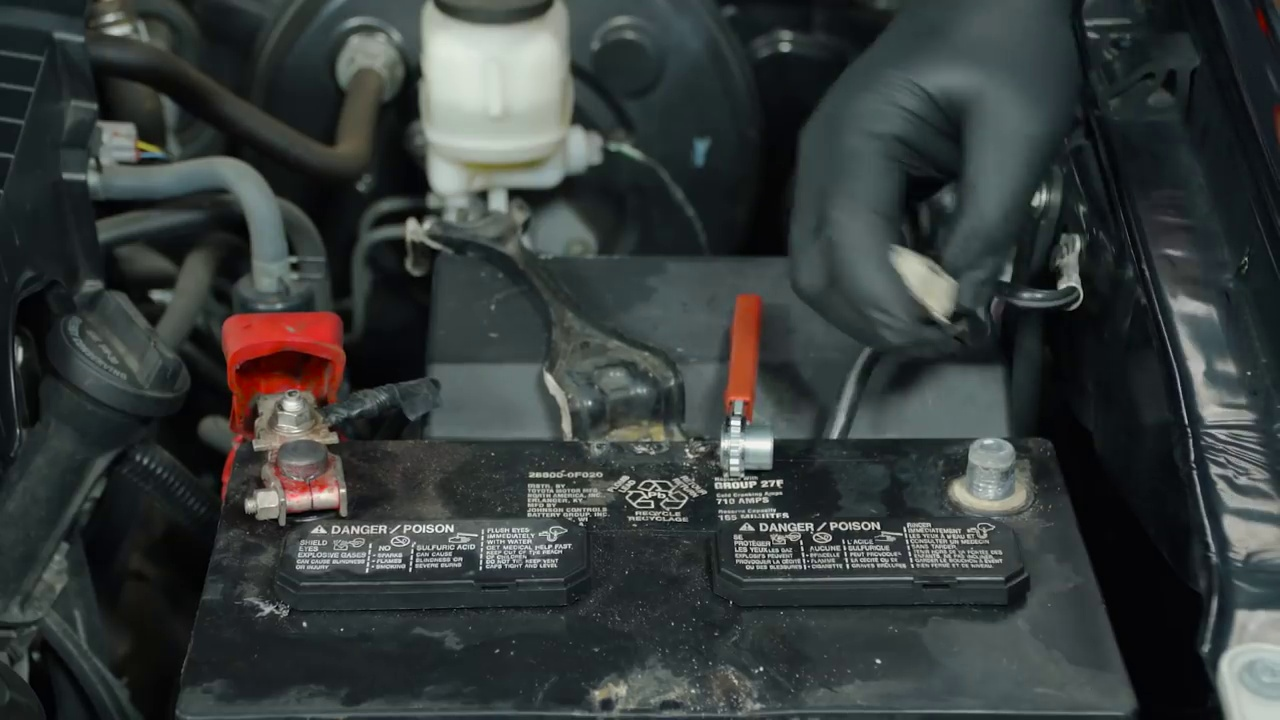battery: (228, 382, 1124, 709)
neg_disconnected: (919, 384, 1050, 513)
pos_connected: (196, 296, 388, 519)
